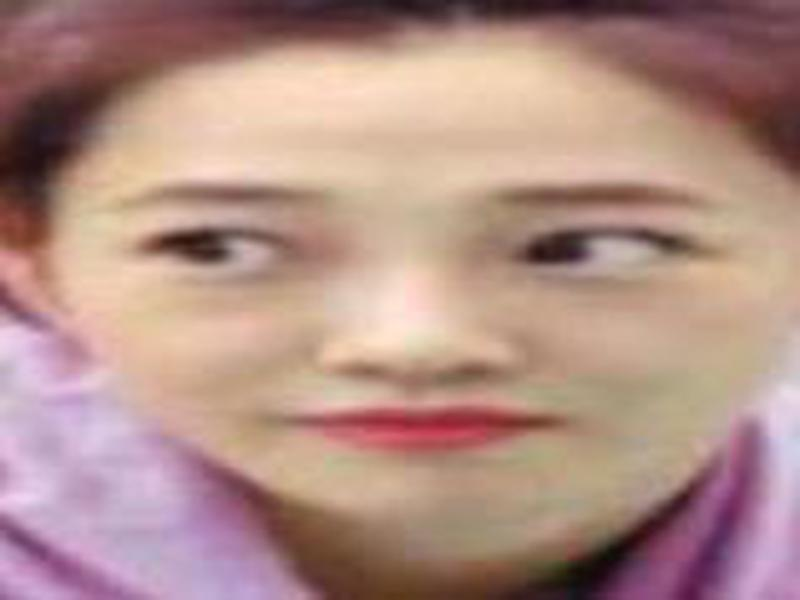without_mask: (55, 119, 800, 536)
